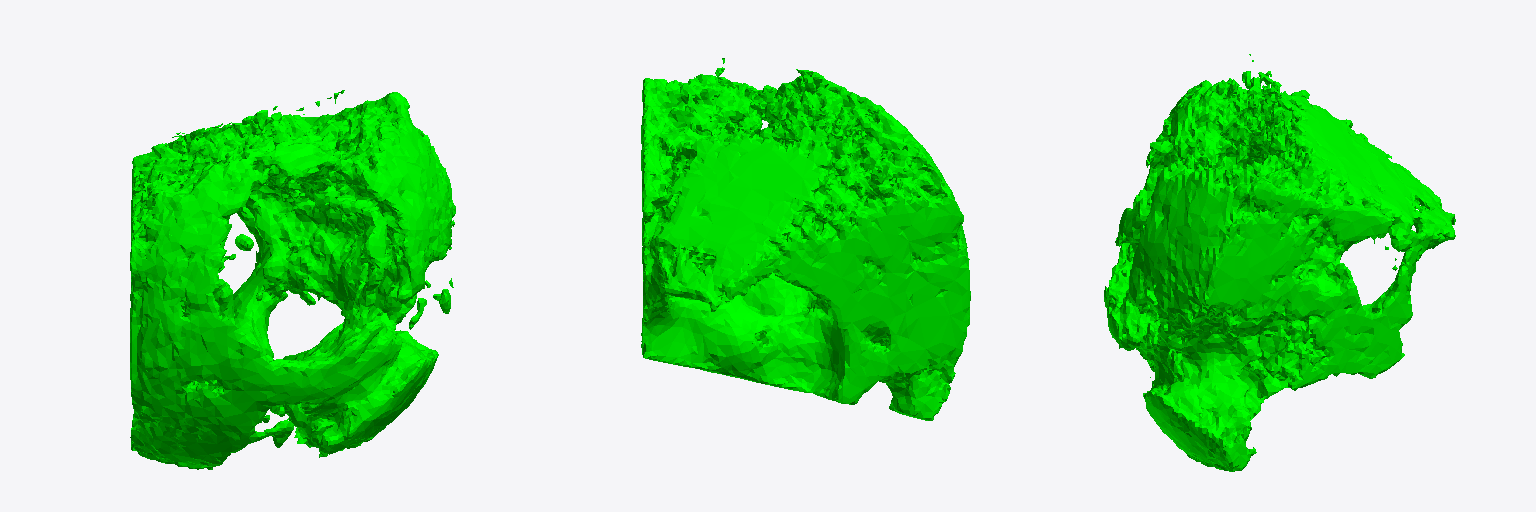
The model's file is B939XXXX-1_base_19.obj.
3 renders of one model, left to right at view 1: azimuth 30°, elevation 25°; view 2: azimuth 150°, elevation 25°; view 3: azimuth 270°, elevation 25°, orthographic.
Parts seen in each view (by area): view 1: 19_base; view 2: 19_base; view 3: 19_base.
Part boxes in pixels (left/top/right/bottom): 19_base: left=130, top=90, right=455, bottom=469; 19_base: left=641, top=58, right=970, bottom=420; 19_base: left=1104, top=54, right=1455, bottom=471.
Bounding box in the file's own units: 218 × 216 × 204.